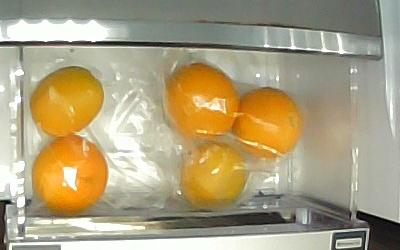orange: (234, 87, 302, 157)
orange_vinyl: (31, 135, 109, 215), (162, 64, 239, 141), (30, 66, 104, 138), (180, 142, 250, 209)
